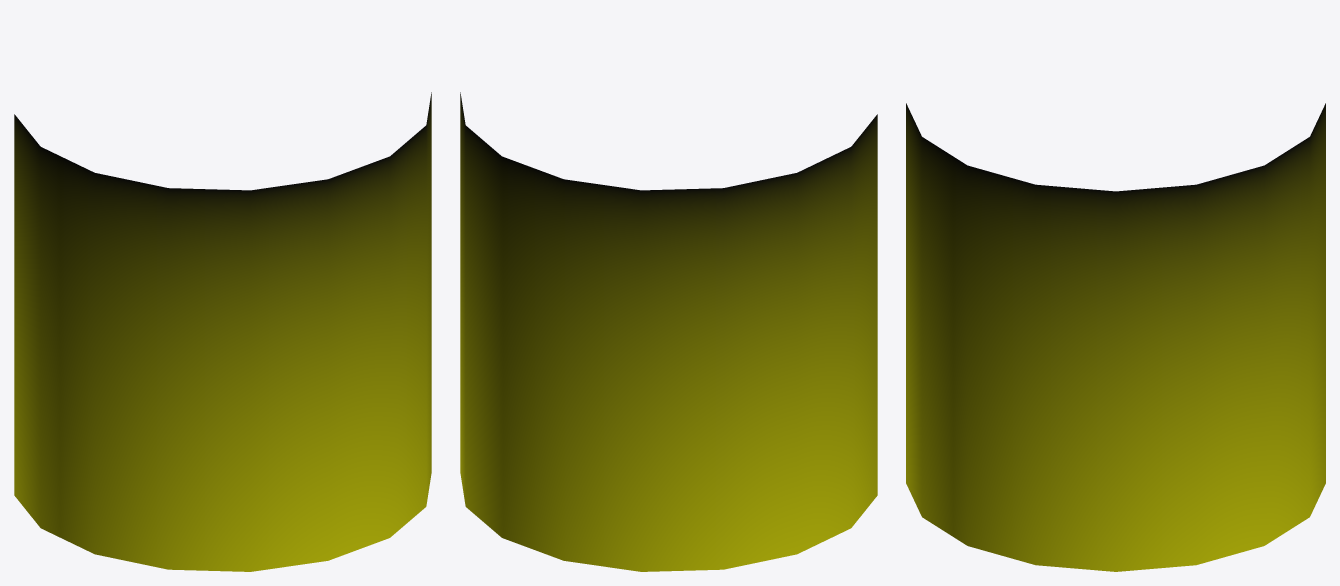
The model's file is circle_yellow.glb.
3 renders of one model, left to right at view 1: azimuth 30°, elevation 25°; view 2: azimuth 150°, elevation 25°; view 3: azimuth 270°, elevation 25°, orthographic.
Visible parts, largest first — view 1: Cylinder; view 2: Cylinder; view 3: Cylinder.
Boxes of the visible parts, bbox=[...] form: Cylinder: bbox=[14, 92, 431, 571]; Cylinder: bbox=[460, 92, 877, 571]; Cylinder: bbox=[906, 103, 1325, 571].
Bounding box in the file's own units: 2 × 2 × 2.
